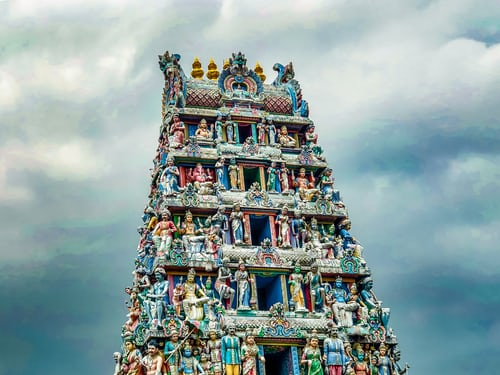Temple: (121, 50, 405, 369)
